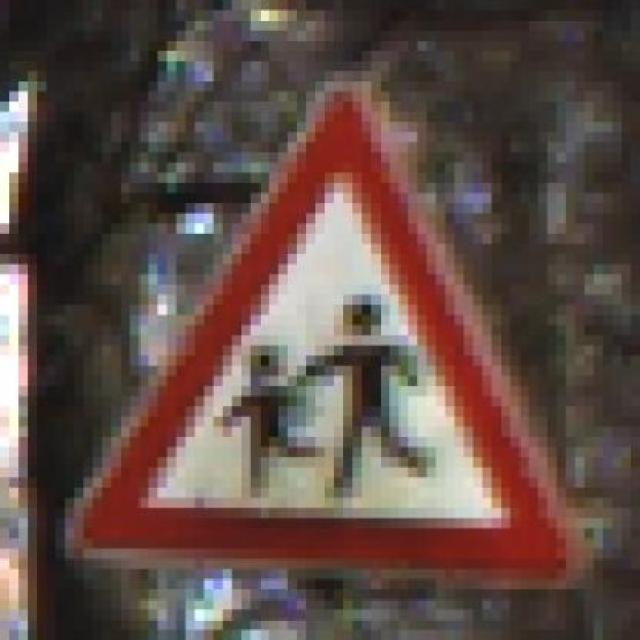Beware of children: (65, 71, 603, 600)
